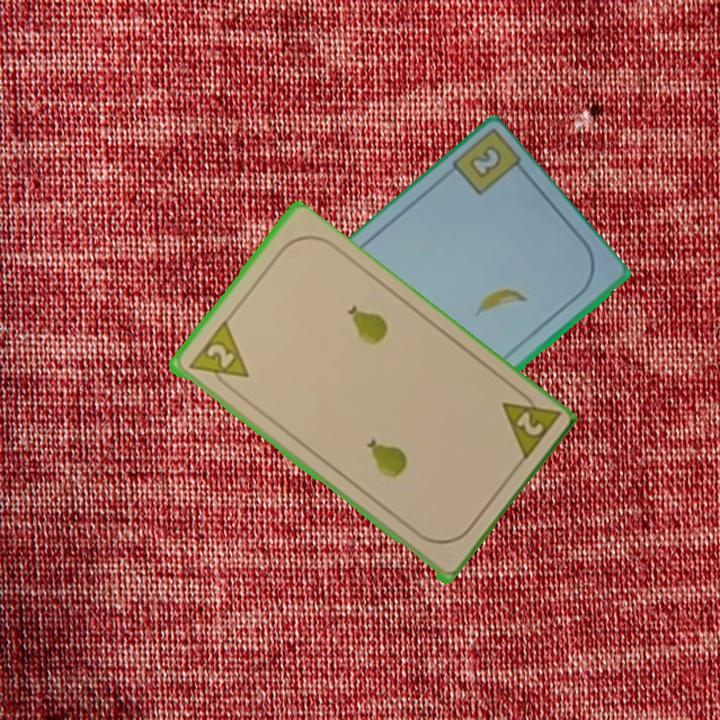2b: (465, 142, 505, 182)
2p: (497, 382, 562, 466), (183, 319, 251, 394)
